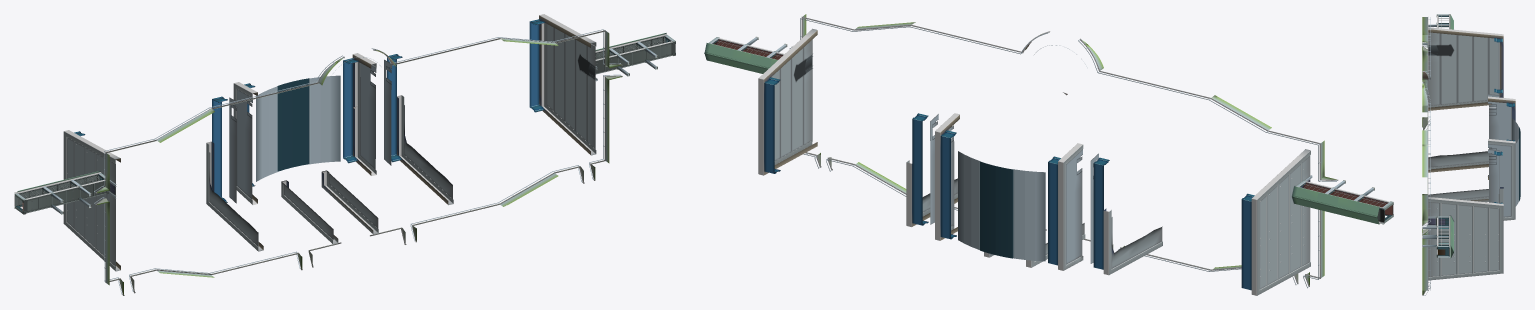
File: SM_000169_merge_w40h001_at01.fbx
The picture shows the model from 3 angles, left to right: view 1: azimuth 30°, elevation 25°; view 2: azimuth 150°, elevation 25°; view 3: azimuth 270°, elevation 25°; orthographic projection. The views are drawn at different scales.
Parts seen in each view (by area): view 1: SM_000169.001; view 2: SM_000169.001; view 3: SM_000169.001.
Part boxes in pixels (x1,y1,x2,y2): SM_000169.001: [14, 14, 675, 295]; SM_000169.001: [704, 14, 1393, 295]; SM_000169.001: [1422, 14, 1520, 295].
Size of the model in its own units: 183 by 54.51 by 32.66.
